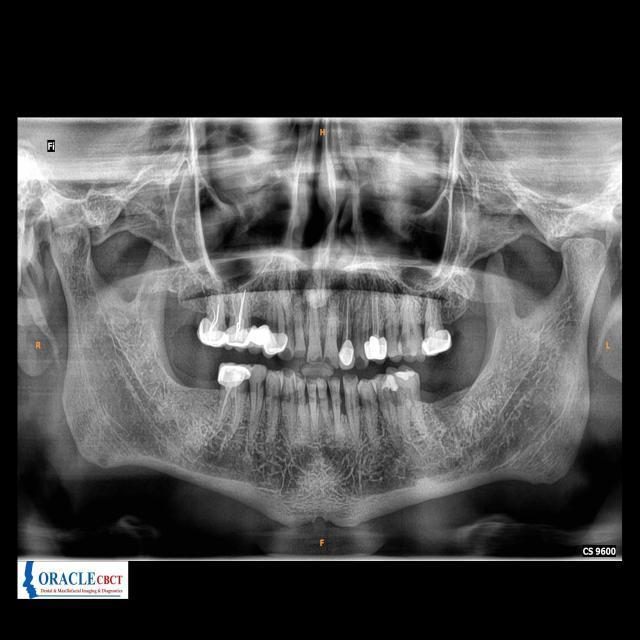dentin-curugu: (383, 386, 398, 408), (399, 332, 411, 354), (352, 352, 367, 368)
dolgu: (393, 369, 418, 382), (381, 374, 399, 391)
kanal-tedavisi: (219, 389, 243, 431), (340, 297, 354, 341), (205, 292, 222, 328), (232, 290, 248, 328), (371, 292, 382, 334)
kaplama: (193, 319, 228, 347), (216, 361, 252, 388), (422, 326, 452, 354), (228, 324, 252, 347), (266, 330, 290, 353), (366, 334, 387, 358), (336, 342, 354, 365)
kopru: (242, 318, 272, 355)
